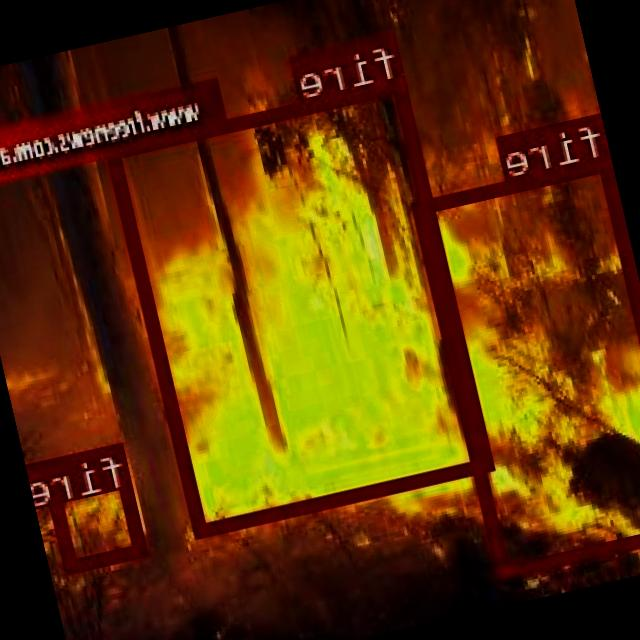fire: (108, 75, 494, 534), (415, 156, 640, 577), (44, 440, 150, 570)
